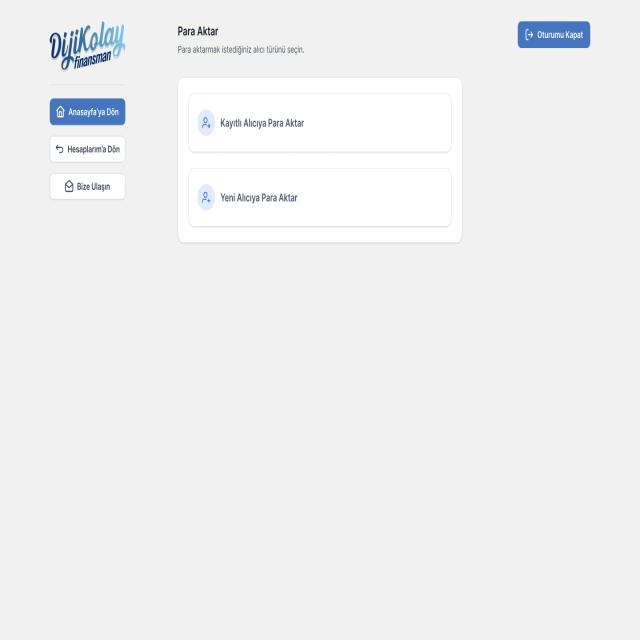QLabel: (175, 42, 305, 58), (219, 116, 305, 131), (220, 192, 298, 204), (175, 24, 222, 39), (66, 144, 120, 156), (536, 29, 585, 42), (68, 106, 119, 118), (76, 180, 110, 192)
VBtn: (48, 134, 126, 164), (48, 98, 125, 126), (516, 21, 593, 49), (50, 173, 125, 200)
VCard: (178, 76, 463, 245), (187, 91, 453, 155), (187, 166, 453, 228)
VIcon: (197, 109, 216, 138), (197, 184, 216, 212), (54, 104, 66, 120), (64, 177, 74, 196), (523, 27, 534, 42), (55, 142, 64, 155)
VImg: (47, 17, 127, 77)
